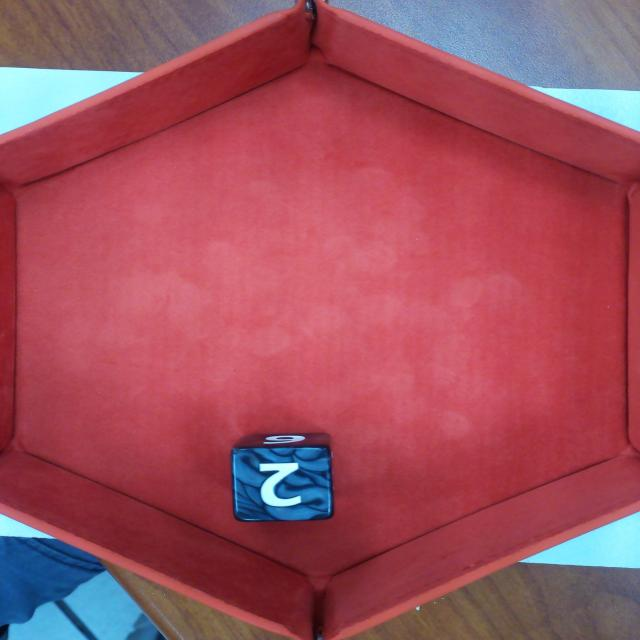dice: (231, 445, 333, 523)
